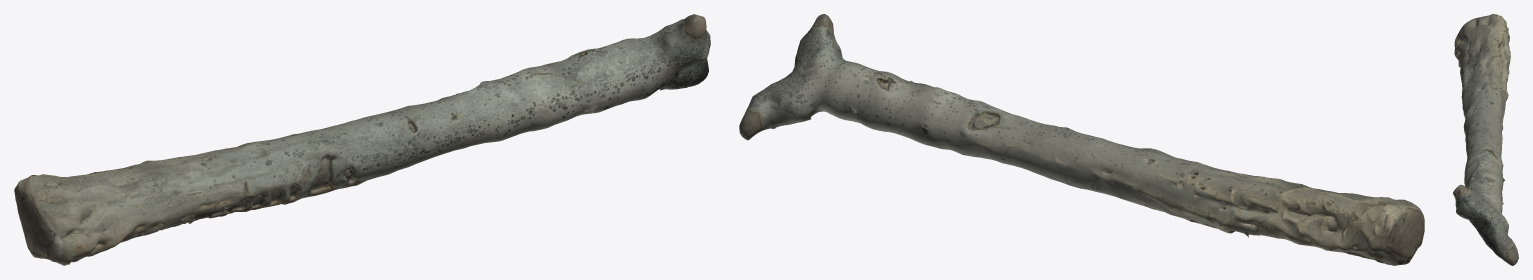
The model's file is B_Log_03.fbx.
The picture shows the model from 3 angles, left to right: view 1: azimuth 30°, elevation 25°; view 2: azimuth 150°, elevation 25°; view 3: azimuth 270°, elevation 25°; orthographic projection. The views are drawn at different scales.
Visible parts, largest first — view 1: B_Log_03_LOD0; view 2: B_Log_03_LOD0; view 3: B_Log_03_LOD0.
Boxes of the visible parts, x1,y1,x2,y2 form: B_Log_03_LOD0: (14, 14, 710, 265); B_Log_03_LOD0: (739, 14, 1424, 265); B_Log_03_LOD0: (1453, 14, 1518, 265).
Size of what is drawn, in the model's own units: 3.8 by 0.584 by 0.5109.
